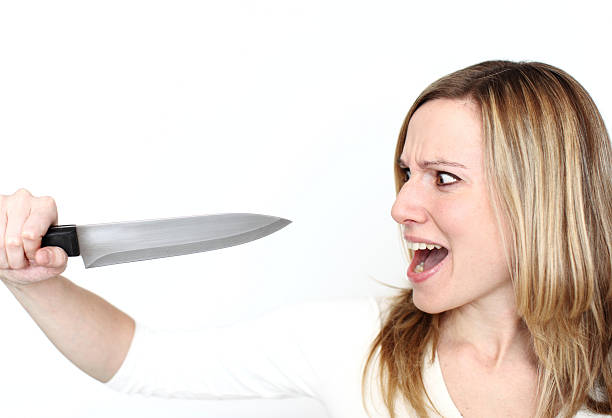knife: (73, 210, 295, 270)
